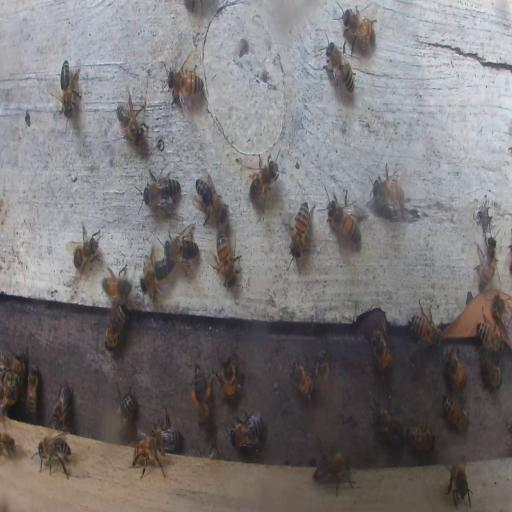bee: (248, 152, 282, 212), (193, 172, 227, 230), (323, 38, 357, 96), (336, 5, 376, 53), (372, 165, 407, 219), (314, 449, 355, 495), (325, 193, 361, 245), (68, 222, 102, 274), (131, 433, 169, 479), (142, 170, 183, 212), (142, 247, 172, 302), (34, 435, 72, 477), (162, 226, 198, 270), (116, 94, 146, 146), (408, 306, 443, 348), (57, 58, 81, 117), (215, 230, 241, 284), (229, 408, 263, 449), (289, 200, 313, 257), (191, 362, 211, 430), (165, 67, 205, 99), (474, 238, 498, 291), (215, 352, 240, 402), (288, 358, 315, 403), (373, 404, 404, 443), (104, 301, 127, 350), (442, 392, 469, 433), (446, 460, 470, 506), (49, 382, 72, 429), (476, 319, 504, 355), (444, 348, 468, 390), (404, 423, 435, 453), (371, 330, 392, 374), (115, 385, 136, 426), (102, 272, 132, 299), (490, 292, 512, 328), (26, 363, 40, 419), (1, 352, 25, 382), (2, 364, 20, 404), (314, 350, 330, 394), (156, 427, 181, 452), (486, 361, 502, 392), (0, 430, 15, 458), (208, 444, 221, 458)
